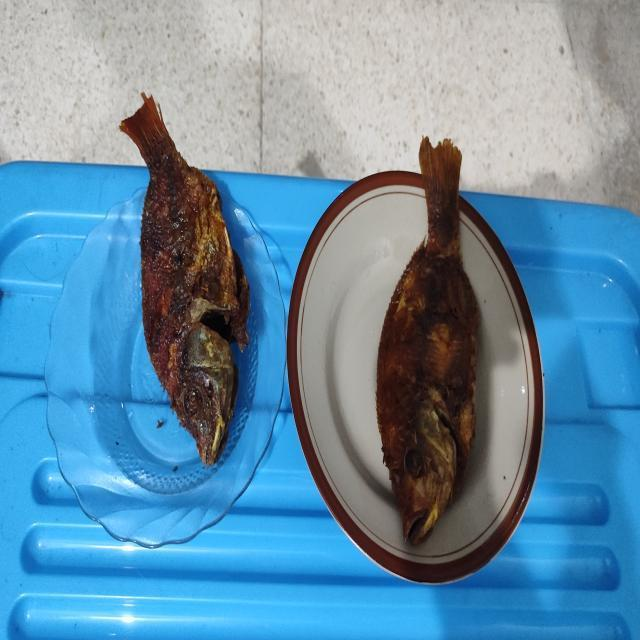ikan_mujair: (120, 93, 250, 465), (376, 137, 479, 544)
